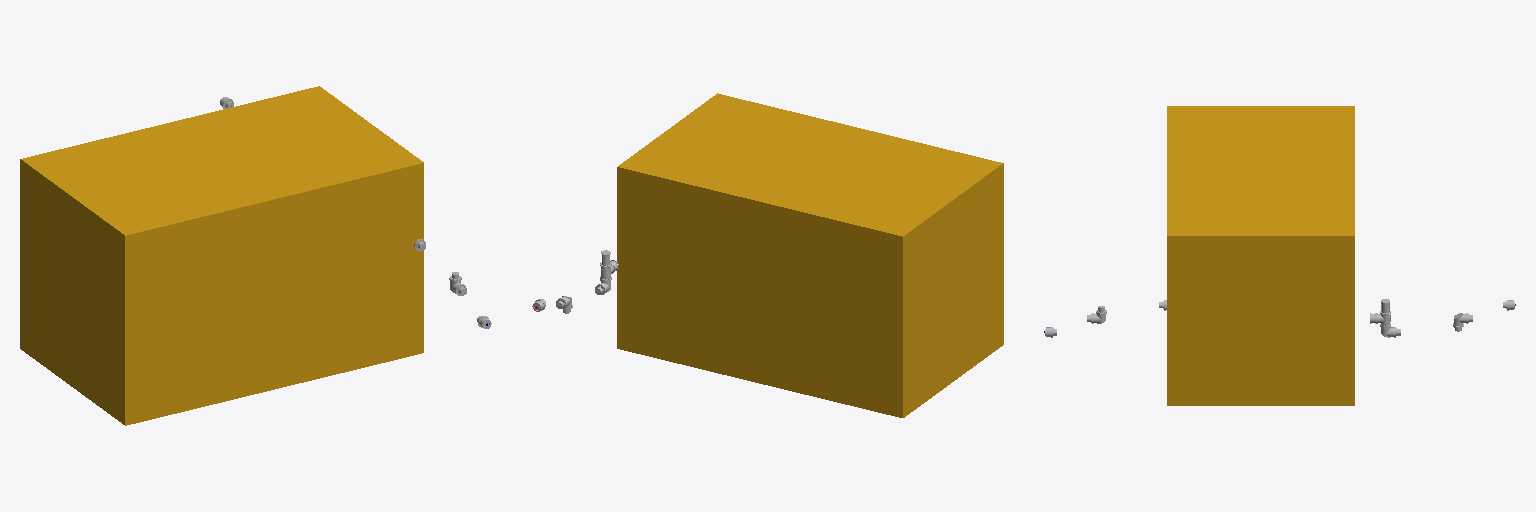
URDF robot description (kari_dual_arm):
<?xml version="1.0" encoding="utf-8"?>
<robot name="kari_dual_arm">
  
  <!-- ========== SATELLITE BODY ========== -->
  <link name="satellite_body">
    <inertial>
      <origin xyz="0 0 0" rpy="0 0 0"/>
      <mass value="500"/>
      <inertia ixx="260" ixy="-0.2" ixz="0.6"
               iyy="280" iyz="4" izz="170"/>
    </inertial>
    <visual>
      <origin xyz="0 0 0" rpy="0 0 0"/>
      <geometry>
        <box size="3.95 2.4 2.4"/>
      </geometry>
      <material name="gold">
        <color rgba="0.85 0.65 0.13 1"/>
      </material>
    </visual>
    <collision>
      <origin xyz="0 0 0" rpy="0 0 0"/>
      <geometry>
        <box size="3.95 2.4 2.4"/>
      </geometry>
    </collision>
  </link>

  <!-- ################################################################## -->
  <!-- ==================== LEFT ARM (+Y) ==================== -->
  <!-- 장착점: [1.9, 0.9, 0], 회전: roll=-90도 -->
  <!-- ################################################################## -->

  <link name="arm_L_base">
    <inertial>
      <origin xyz="-0.00000965 -0.00003686 0.07767998" rpy="0 0 0"/>
      <mass value="3.3436"/>
      <inertia ixx="0.00751250" ixy="-0.00000006" ixz="0.00000167"
               iyy="0.00752435" iyz="-0.00000111" izz="0.00631252"/>
    </inertial>
    <visual>
      <geometry>
        <mesh filename="package://orbit_sim/models/kari_arm/meshes/ASM_J0.STL"/>
      </geometry>
      <material name="grey">
        <color rgba="0.75 0.75 0.75 1"/>
      </material>
    </visual>
    <collision>
      <geometry>
        <mesh filename="package://orbit_sim/models/kari_arm/meshes/ASM_J0.STL"/>
      </geometry>
    </collision>
  </link>

  <joint name="arm_L_mount" type="fixed">
    <origin xyz="1.9 1.4 0" rpy="-1.5708 0 0"/>
    <parent link="satellite_body"/>
    <child link="arm_L_base"/>
  </joint>

  <link name="arm_L_link1">
    <inertial>
      <origin xyz="-0.00026892 -0.08021331 0.09358186" rpy="0 0 0"/>
      <mass value="2.1207"/>
      <inertia ixx="0.02665777" ixy="0.00012951" ixz="-0.00002113"
               iyy="0.00821363" iyz="-0.00194208" izz="0.02512228"/>
    </inertial>
    <visual>
      <geometry>
        <mesh filename="package://orbit_sim/models/kari_arm/meshes/ASM_J1.STL"/>
      </geometry>
      <material name="grey"/>
    </visual>
    <collision>
      <geometry>
        <mesh filename="package://orbit_sim/models/kari_arm/meshes/ASM_J1.STL"/>
      </geometry>
    </collision>
  </link>

  <joint name="arm_L_joint1" type="revolute">
    <origin xyz="0 0 0.094" rpy="0 0 0"/>
    <parent link="arm_L_base"/>
    <child link="arm_L_link1"/>
    <axis xyz="0 0 1"/>
    <limit lower="-3.14" upper="3.14" effort="65" velocity="0.17453"/>
  </joint>

  <link name="arm_L_link2">
    <inertial>
      <origin xyz="0.0 0.06124762 0.05639568" rpy="0 0 0"/>
      <mass value="6.6621"/>
      <inertia ixx="0.05097328" ixy="0.00000002" ixz="0.0"
               iyy="0.03629437" iyz="0.01622322" izz="0.02722892"/>
    </inertial>
    <visual>
      <geometry>
        <mesh filename="package://orbit_sim/models/kari_arm/meshes/ASM_J2.STL"/>
      </geometry>
      <material name="grey"/>
    </visual>
    <collision>
      <geometry>
        <mesh filename="package://orbit_sim/models/kari_arm/meshes/ASM_J2.STL"/>
      </geometry>
    </collision>
  </link>

  <joint name="arm_L_joint2" type="revolute">
    <origin xyz="0 0.088 0.105" rpy="0 0 0"/>
    <parent link="arm_L_link1"/>
    <child link="arm_L_link2"/>
    <axis xyz="0 1 0"/>
    <limit lower="-3.14" upper="3.14" effort="65" velocity="0.17453"/>
  </joint>

  <link name="arm_L_link3">
    <inertial>
      <origin xyz="-0.00033293 -0.00482569 0.40191520" rpy="0 0 0"/>
      <mass value="4.0005"/>
      <inertia ixx="0.29888290" ixy="-0.00000478" ixz="0.00033497"
               iyy="0.29796389" iyz="-0.00781668" izz="0.01207673"/>
    </inertial>
    <visual>
      <geometry>
        <mesh filename="package://orbit_sim/models/kari_arm/meshes/ASM_J3.STL"/>
      </geometry>
      <material name="grey"/>
    </visual>
    <collision>
      <geometry>
        <mesh filename="package://orbit_sim/models/kari_arm/meshes/ASM_J3.STL"/>
      </geometry>
    </collision>
  </link>

  <joint name="arm_L_joint3" type="revolute">
    <origin xyz="0 0.104 0.131" rpy="0 0 0"/>
    <parent link="arm_L_link2"/>
    <child link="arm_L_link3"/>
    <axis xyz="0 0 1"/>
    <limit lower="-3.14" upper="3.14" effort="65" velocity="0.17453"/>
  </joint>

  <link name="arm_L_link4">
    <inertial>
      <origin xyz="0.0 -0.06124762 0.05639568" rpy="0 0 0"/>
      <mass value="6.66208"/>
      <inertia ixx="0.05097328" ixy="0.00000002" ixz="0.0"
               iyy="0.03629437" iyz="-0.01622322" izz="0.02722892"/>
    </inertial>
    <visual>
      <geometry>
        <mesh filename="package://orbit_sim/models/kari_arm/meshes/ASM_J4.STL"/>
      </geometry>
      <material name="grey"/>
    </visual>
    <collision>
      <geometry>
        <mesh filename="package://orbit_sim/models/kari_arm/meshes/ASM_J4.STL"/>
      </geometry>
    </collision>
  </link>

  <joint name="arm_L_joint4" type="revolute">
    <origin xyz="0 -0.088 0.8" rpy="0 0 0"/>
    <parent link="arm_L_link3"/>
    <child link="arm_L_link4"/>
    <axis xyz="0 1 0"/>
    <limit lower="-3.14" upper="3.14" effort="65" velocity="0.17453"/>
  </joint>

  <link name="arm_L_link5">
    <inertial>
      <origin xyz="-0.00050908 -0.00461248 0.21393427" rpy="0 0 0"/>
      <mass value="2.6161"/>
      <inertia ixx="0.05207280" ixy="-0.00000483" ixz="0.00009635"
               iyy="0.05170972" iyz="-0.00247387" izz="0.00805695"/>
    </inertial>
    <visual>
      <geometry>
        <mesh filename="package://orbit_sim/models/kari_arm/meshes/ASM_J5.STL"/>
      </geometry>
      <material name="grey"/>
    </visual>
    <collision>
      <geometry>
        <mesh filename="package://orbit_sim/models/kari_arm/meshes/ASM_J5.STL"/>
      </geometry>
    </collision>
  </link>

  <joint name="arm_L_joint5" type="revolute">
    <origin xyz="0 -0.104 0.131" rpy="0 0 0"/>
    <parent link="arm_L_link4"/>
    <child link="arm_L_link5"/>
    <axis xyz="0 0 1"/>
    <limit lower="-3.14" upper="3.14" effort="65" velocity="0.17453"/>
  </joint>

  <link name="arm_L_link6">
    <inertial>
      <origin xyz="0.00011474 -0.05246547 -0.03422529" rpy="0 0 0"/>
      <mass value="4.9702"/>
      <inertia ixx="0.05197714" ixy="-0.00005372" ixz="-0.00015573"
               iyy="0.03740379" iyz="0.01165841" izz="0.02571022"/>
    </inertial>
    <visual>
      <geometry>
        <mesh filename="package://orbit_sim/models/kari_arm/meshes/ASM_J6.STL"/>
      </geometry>
      <material name="grey"/>
    </visual>
    <collision>
      <geometry>
        <mesh filename="package://orbit_sim/models/kari_arm/meshes/ASM_J6.STL"/>
      </geometry>
    </collision>
  </link>

  <joint name="arm_L_joint6" type="revolute">
    <origin xyz="0 -0.071 0.408" rpy="0 0 0"/>
    <parent link="arm_L_link5"/>
    <child link="arm_L_link6"/>
    <axis xyz="0 1 0"/>
    <limit lower="-3.14" upper="3.14" effort="65" velocity="0.17453"/>
  </joint>

  <link name="arm_L_link7">
    <inertial>
      <origin xyz="0.00000590 0.0 0.01747537" rpy="0 0 0"/>
      <mass value="3.3715"/>
      <inertia ixx="0.00768334" ixy="0.0" ixz="0.00000006"
               iyy="0.00768346" iyz="0.0" izz="0.00607932"/>
    </inertial>
    <visual>
      <geometry>
        <mesh filename="package://orbit_sim/models/kari_arm/meshes/ASM_J7.STL"/>
      </geometry>
      <material name="grey"/>
    </visual>
    <collision>
      <geometry>
        <mesh filename="package://orbit_sim/models/kari_arm/meshes/ASM_J7.STL"/>
      </geometry>
    </collision>
  </link>

  <joint name="arm_L_joint7" type="revolute">
    <origin xyz="0 -0.121 0.088" rpy="0 0 0"/>
    <parent link="arm_L_link6"/>
    <child link="arm_L_link7"/>
    <axis xyz="0 0 1"/>
    <limit lower="-3.14" upper="3.14" effort="65" velocity="0.17453"/>
  </joint>

  <link name="arm_L_eef_link">
    <inertial>
      <mass value="0.001"/>
      <inertia ixx="0.000001" ixy="0" ixz="0" iyy="0.000001" iyz="0" izz="0.000001"/>
    </inertial>
    <visual>
      <geometry>
        <box size="0.02 0.02 0.02"/>
      </geometry>
      <material name="red">
        <color rgba="1 0 0 1"/>
      </material>
    </visual>
  </link>

  <joint name="arm_L_eef_fixed" type="fixed">
    <origin xyz="0 0 0.097" rpy="0 0 0"/>
    <parent link="arm_L_link7"/>
    <child link="arm_L_eef_link"/>
  </joint>

  <!-- ################################################################## -->
  <!-- ==================== RIGHT ARM (-Y) ==================== -->
  <!-- 장착점: [1.9, -0.9, 0], 회전: roll=+90도 -->
  <!-- ################################################################## -->

  <link name="arm_R_base">
    <inertial>
      <origin xyz="-0.00000965 -0.00003686 0.07767998" rpy="0 0 0"/>
      <mass value="3.3436"/>
      <inertia ixx="0.00751250" ixy="-0.00000006" ixz="0.00000167"
               iyy="0.00752435" iyz="-0.00000111" izz="0.00631252"/>
    </inertial>
    <visual>
      <geometry>
        <mesh filename="package://orbit_sim/models/kari_arm/meshes/ASM_J0.STL"/>
      </geometry>
      <material name="grey"/>
    </visual>
    <collision>
      <geometry>
        <mesh filename="package://orbit_sim/models/kari_arm/meshes/ASM_J0.STL"/>
      </geometry>
    </collision>
  </link>

  <joint name="arm_R_mount" type="fixed">
    <origin xyz="1.9 -0.91 0" rpy="1.5708 0 0"/>
    <parent link="satellite_body"/>
    <child link="arm_R_base"/>
  </joint>

  <link name="arm_R_link1">
    <inertial>
      <origin xyz="-0.00026892 -0.08021331 0.09358186" rpy="0 0 0"/>
      <mass value="2.1207"/>
      <inertia ixx="0.02665777" ixy="0.00012951" ixz="-0.00002113"
               iyy="0.00821363" iyz="-0.00194208" izz="0.02512228"/>
    </inertial>
    <visual>
      <geometry>
        <mesh filename="package://orbit_sim/models/kari_arm/meshes/ASM_J1.STL"/>
      </geometry>
      <material name="grey"/>
    </visual>
    <collision>
      <geometry>
        <mesh filename="package://orbit_sim/models/kari_arm/meshes/ASM_J1.STL"/>
      </geometry>
    </collision>
  </link>

  <joint name="arm_R_joint1" type="revolute">
    <origin xyz="0 0 0.094" rpy="0 0 0"/>
    <parent link="arm_R_base"/>
    <child link="arm_R_link1"/>
    <axis xyz="0 0 1"/>
    <limit lower="-3.14" upper="3.14" effort="65" velocity="0.17453"/>
  </joint>

  <link name="arm_R_link2">
    <inertial>
      <origin xyz="0.0 0.06124762 0.05639568" rpy="0 0 0"/>
      <mass value="6.6621"/>
      <inertia ixx="0.05097328" ixy="0.00000002" ixz="0.0"
               iyy="0.03629437" iyz="0.01622322" izz="0.02722892"/>
    </inertial>
    <visual>
      <geometry>
        <mesh filename="package://orbit_sim/models/kari_arm/meshes/ASM_J2.STL"/>
      </geometry>
      <material name="grey"/>
    </visual>
    <collision>
      <geometry>
        <mesh filename="package://orbit_sim/models/kari_arm/meshes/ASM_J2.STL"/>
      </geometry>
    </collision>
  </link>

  <joint name="arm_R_joint2" type="revolute">
    <origin xyz="0 0.088 0.105" rpy="0 0 0"/>
    <parent link="arm_R_link1"/>
    <child link="arm_R_link2"/>
    <axis xyz="0 1 0"/>
    <limit lower="-3.14" upper="3.14" effort="65" velocity="0.17453"/>
  </joint>

  <link name="arm_R_link3">
    <inertial>
      <origin xyz="-0.00033293 -0.00482569 0.40191520" rpy="0 0 0"/>
      <mass value="4.0005"/>
      <inertia ixx="0.29888290" ixy="-0.00000478" ixz="0.00033497"
               iyy="0.29796389" iyz="-0.00781668" izz="0.01207673"/>
    </inertial>
    <visual>
      <geometry>
        <mesh filename="package://orbit_sim/models/kari_arm/meshes/ASM_J3.STL"/>
      </geometry>
      <material name="grey"/>
    </visual>
    <collision>
      <geometry>
        <mesh filename="package://orbit_sim/models/kari_arm/meshes/ASM_J3.STL"/>
      </geometry>
    </collision>
  </link>

  <joint name="arm_R_joint3" type="revolute">
    <origin xyz="0 0.104 0.131" rpy="0 0 0"/>
    <parent link="arm_R_link2"/>
    <child link="arm_R_link3"/>
    <axis xyz="0 0 1"/>
    <limit lower="-3.14" upper="3.14" effort="65" velocity="0.17453"/>
  </joint>

  <link name="arm_R_link4">
    <inertial>
      <origin xyz="0.0 -0.06124762 0.05639568" rpy="0 0 0"/>
      <mass value="6.66208"/>
      <inertia ixx="0.05097328" ixy="0.00000002" ixz="0.0"
               iyy="0.03629437" iyz="-0.01622322" izz="0.02722892"/>
    </inertial>
    <visual>
      <geometry>
        <mesh filename="package://orbit_sim/models/kari_arm/meshes/ASM_J4.STL"/>
      </geometry>
      <material name="grey"/>
    </visual>
    <collision>
      <geometry>
        <mesh filename="package://orbit_sim/models/kari_arm/meshes/ASM_J4.STL"/>
      </geometry>
    </collision>
  </link>

  <joint name="arm_R_joint4" type="revolute">
    <origin xyz="0 -0.088 0.8" rpy="0 0 0"/>
    <parent link="arm_R_link3"/>
    <child link="arm_R_link4"/>
    <axis xyz="0 1 0"/>
    <limit lower="-3.14" upper="3.14" effort="65" velocity="0.17453"/>
  </joint>

  <link name="arm_R_link5">
    <inertial>
      <origin xyz="-0.00050908 -0.00461248 0.21393427" rpy="0 0 0"/>
      <mass value="2.6161"/>
      <inertia ixx="0.05207280" ixy="-0.00000483" ixz="0.00009635"
               iyy="0.05170972" iyz="-0.00247387" izz="0.00805695"/>
    </inertial>
    <visual>
      <geometry>
        <mesh filename="package://orbit_sim/models/kari_arm/meshes/ASM_J5.STL"/>
      </geometry>
      <material name="grey"/>
    </visual>
    <collision>
      <geometry>
        <mesh filename="package://orbit_sim/models/kari_arm/meshes/ASM_J5.STL"/>
      </geometry>
    </collision>
  </link>

  <joint name="arm_R_joint5" type="revolute">
    <origin xyz="0 -0.104 0.131" rpy="0 0 0"/>
    <parent link="arm_R_link4"/>
    <child link="arm_R_link5"/>
    <axis xyz="0 0 1"/>
    <limit lower="-3.14" upper="3.14" effort="65" velocity="0.17453"/>
  </joint>

  <link name="arm_R_link6">
    <inertial>
      <origin xyz="0.00011474 -0.05246547 -0.03422529" rpy="0 0 0"/>
      <mass value="4.9702"/>
      <inertia ixx="0.05197714" ixy="-0.00005372" ixz="-0.00015573"
               iyy="0.03740379" iyz="0.01165841" izz="0.02571022"/>
    </inertial>
    <visual>
      <geometry>
        <mesh filename="package://orbit_sim/models/kari_arm/meshes/ASM_J6.STL"/>
      </geometry>
      <material name="grey"/>
    </visual>
    <collision>
      <geometry>
        <mesh filename="package://orbit_sim/models/kari_arm/meshes/ASM_J6.STL"/>
      </geometry>
    </collision>
  </link>

  <joint name="arm_R_joint6" type="revolute">
    <origin xyz="0 -0.071 0.408" rpy="0 0 0"/>
    <parent link="arm_R_link5"/>
    <child link="arm_R_link6"/>
    <axis xyz="0 1 0"/>
    <limit lower="-3.14" upper="3.14" effort="65" velocity="0.17453"/>
  </joint>

  <link name="arm_R_link7">
    <inertial>
      <origin xyz="0.00000590 0.0 0.01747537" rpy="0 0 0"/>
      <mass value="3.3715"/>
      <inertia ixx="0.00768334" ixy="0.0" ixz="0.00000006"
               iyy="0.00768346" iyz="0.0" izz="0.00607932"/>
    </inertial>
    <visual>
      <geometry>
        <mesh filename="package://orbit_sim/models/kari_arm/meshes/ASM_J7.STL"/>
      </geometry>
      <material name="grey"/>
    </visual>
    <collision>
      <geometry>
        <mesh filename="package://orbit_sim/models/kari_arm/meshes/ASM_J7.STL"/>
      </geometry>
    </collision>
  </link>

  <joint name="arm_R_joint7" type="revolute">
    <origin xyz="0 -0.121 0.088" rpy="0 0 0"/>
    <parent link="arm_R_link6"/>
    <child link="arm_R_link7"/>
    <axis xyz="0 0 1"/>
    <limit lower="-3.14" upper="3.14" effort="65" velocity="0.17453"/>
  </joint>

  <link name="arm_R_eef_link">
    <inertial>
      <mass value="0.001"/>
      <inertia ixx="0.000001" ixy="0" ixz="0" iyy="0.000001" iyz="0" izz="0.000001"/>
    </inertial>
    <visual>
      <geometry>
        <box size="0.02 0.02 0.02"/>
      </geometry>
      <material name="blue">
        <color rgba="0 0 1 1"/>
      </material>
    </visual>
  </link>

  <joint name="arm_R_eef_fixed" type="fixed">
    <origin xyz="0 0 0.097" rpy="0 0 0"/>
    <parent link="arm_R_link7"/>
    <child link="arm_R_eef_link"/>
  </joint>

  <!-- ========== ros2_control ========== -->
  <ros2_control name="GazeboSimSystem" type="system">
    <hardware>
      <plugin>gz_ros2_control/GazeboSimSystem</plugin>
    </hardware>
    <!-- Left Arm -->
    <joint name="arm_L_joint1">
      <command_interface name="effort">
        <param name="min">-65</param>
        <param name="max">65</param>
      </command_interface>
      <state_interface name="position"/>
      <state_interface name="velocity"/>
      <state_interface name="effort"/>
    </joint>
    <joint name="arm_L_joint2">
      <command_interface name="effort">
        <param name="min">-65</param>
        <param name="max">65</param>
      </command_interface>
      <state_interface name="position"/>
      <state_interface name="velocity"/>
      <state_interface name="effort"/>
    </joint>
    <joint name="arm_L_joint3">
      <command_interface name="effort">
        <param name="min">-65</param>
        <param name="max">65</param>
      </command_interface>
      <state_interface name="position"/>
      <state_interface name="velocity"/>
      <state_interface name="effort"/>
    </joint>
    <joint name="arm_L_joint4">
      <command_interface name="effort">
        <param name="min">-65</param>
        <param name="max">65</param>
      </command_interface>
      <state_interface name="position"/>
      <state_interface name="velocity"/>
      <state_interface name="effort"/>
    </joint>
    <joint name="arm_L_joint5">
      <command_interface name="effort">
        <param name="min">-65</param>
        <param name="max">65</param>
      </command_interface>
      <state_interface name="position"/>
      <state_interface name="velocity"/>
      <state_interface name="effort"/>
    </joint>
    <joint name="arm_L_joint6">
      <command_interface name="effort">
        <param name="min">-65</param>
        <param name="max">65</param>
      </command_interface>
      <state_interface name="position"/>
      <state_interface name="velocity"/>
      <state_interface name="effort"/>
    </joint>
    <joint name="arm_L_joint7">
      <command_interface name="effort">
        <param name="min">-65</param>
        <param name="max">65</param>
      </command_interface>
      <state_interface name="position"/>
      <state_interface name="velocity"/>
      <state_interface name="effort"/>
    </joint>
    <!-- Right Arm -->
    <joint name="arm_R_joint1">
      <command_interface name="effort">
        <param name="min">-65</param>
        <param name="max">65</param>
      </command_interface>
      <state_interface name="position"/>
      <state_interface name="velocity"/>
      <state_interface name="effort"/>
    </joint>
    <joint name="arm_R_joint2">
      <command_interface name="effort">
        <param name="min">-65</param>
        <param name="max">65</param>
      </command_interface>
      <state_interface name="position"/>
      <state_interface name="velocity"/>
      <state_interface name="effort"/>
    </joint>
    <joint name="arm_R_joint3">
      <command_interface name="effort">
        <param name="min">-65</param>
        <param name="max">65</param>
      </command_interface>
      <state_interface name="position"/>
      <state_interface name="velocity"/>
      <state_interface name="effort"/>
    </joint>
    <joint name="arm_R_joint4">
      <command_interface name="effort">
        <param name="min">-65</param>
        <param name="max">65</param>
      </command_interface>
      <state_interface name="position"/>
      <state_interface name="velocity"/>
      <state_interface name="effort"/>
    </joint>
    <joint name="arm_R_joint5">
      <command_interface name="effort">
        <param name="min">-65</param>
        <param name="max">65</param>
      </command_interface>
      <state_interface name="position"/>
      <state_interface name="velocity"/>
      <state_interface name="effort"/>
    </joint>
    <joint name="arm_R_joint6">
      <command_interface name="effort">
        <param name="min">-65</param>
        <param name="max">65</param>
      </command_interface>
      <state_interface name="position"/>
      <state_interface name="velocity"/>
      <state_interface name="effort"/>
    </joint>
    <joint name="arm_R_joint7">
      <command_interface name="effort">
        <param name="min">-65</param>
        <param name="max">65</param>
      </command_interface>
      <state_interface name="position"/>
      <state_interface name="velocity"/>
      <state_interface name="effort"/>
    </joint>
  </ros2_control>

</robot>

--- Render facts (derived) ---
Views: 3 orthographic renders of the robot side by side, from view 1: azimuth 30°, elevation 25°; view 2: azimuth 150°, elevation 25°; view 3: azimuth 270°, elevation 25°.
Model kari_dual_arm with 19 links and 18 joints (14 revolute, 4 fixed), rooted at satellite_body, posed all joints at 0.
Visible links, largest first — view 1: satellite_body; view 2: satellite_body; view 3: satellite_body.
Link boxes in pixels (x1=…): satellite_body: x1=20, y1=86, x2=423, y2=425; satellite_body: x1=617, y1=93, x2=1003, y2=417; satellite_body: x1=1167, y1=106, x2=1354, y2=405.
Bounding box of the posed robot: 3.95 × 6.04 × 2.4 m (x, y, z).
Meshes: 8 distinct files referenced, 10 mesh visuals loaded (5 binary STL); not drawn: 6 (reference not matched to a file when rendering).
